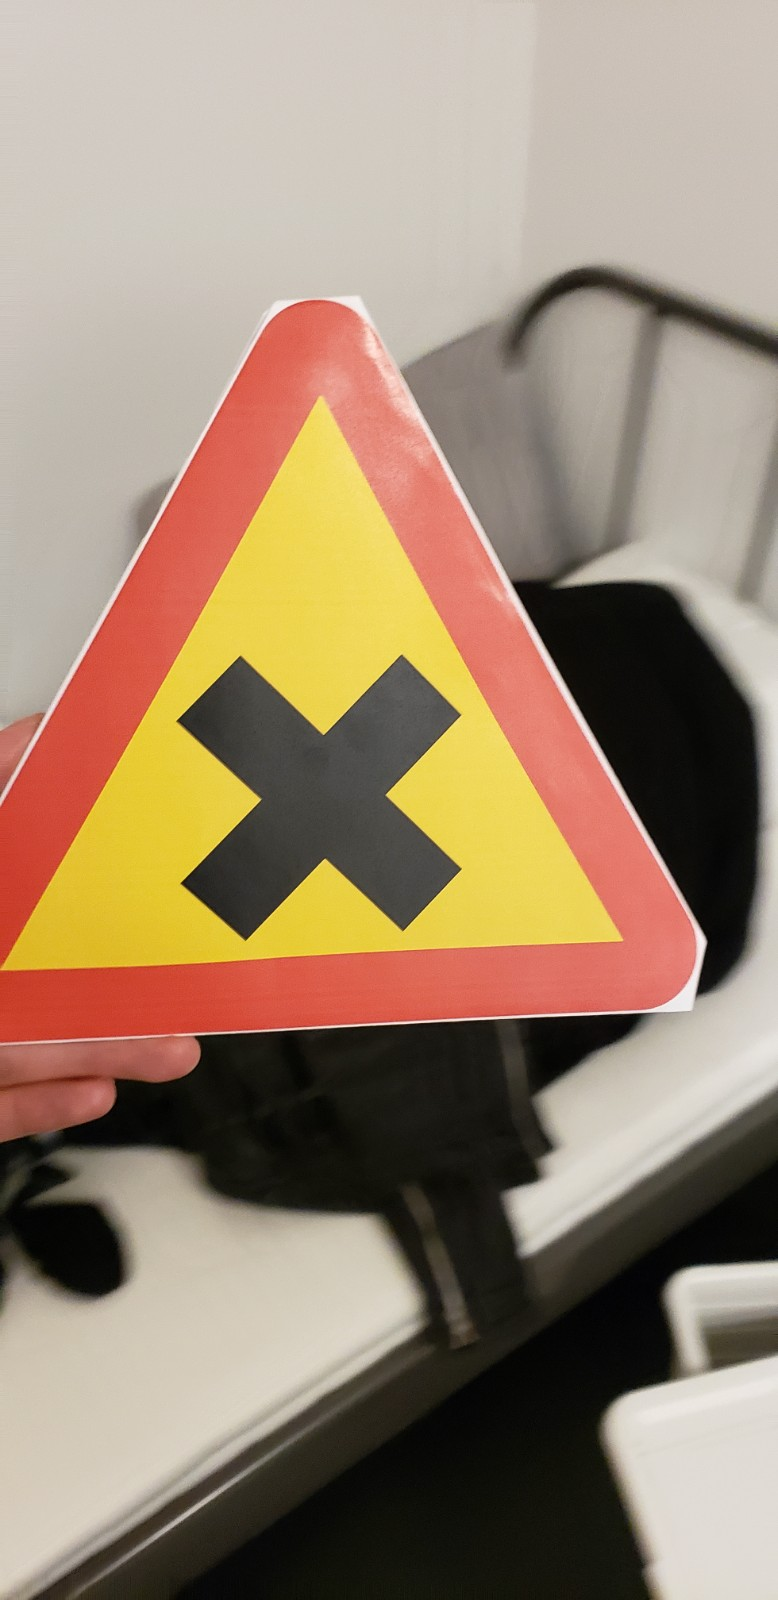junction: (7, 328, 750, 1078)
